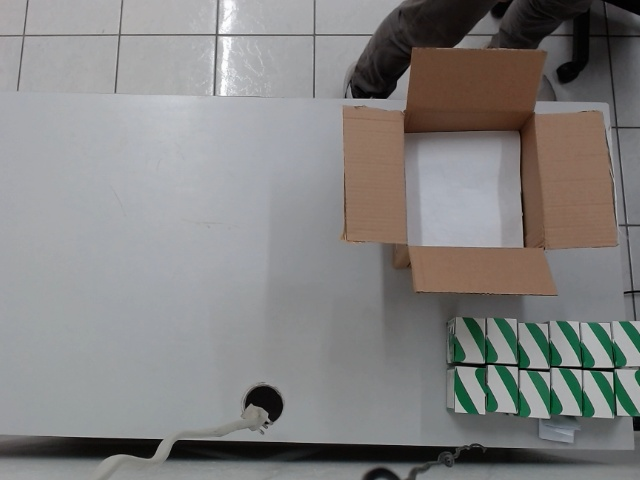caixa_principal: (339, 42, 620, 302)
